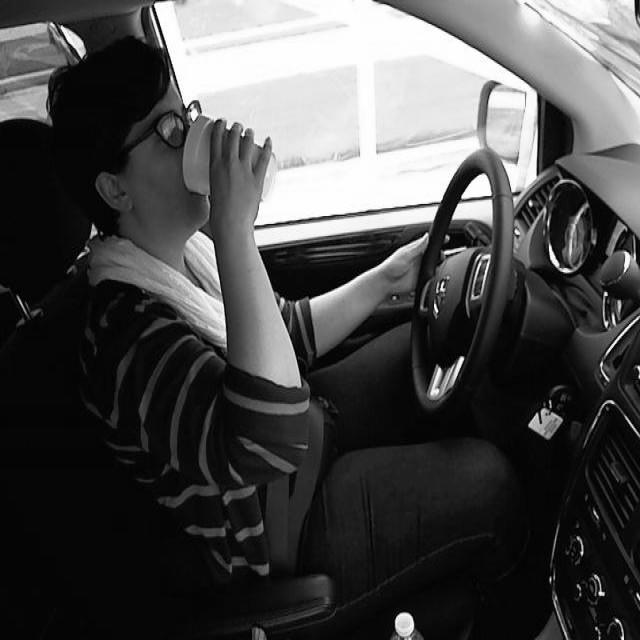Drinking: (178, 117, 272, 208)
